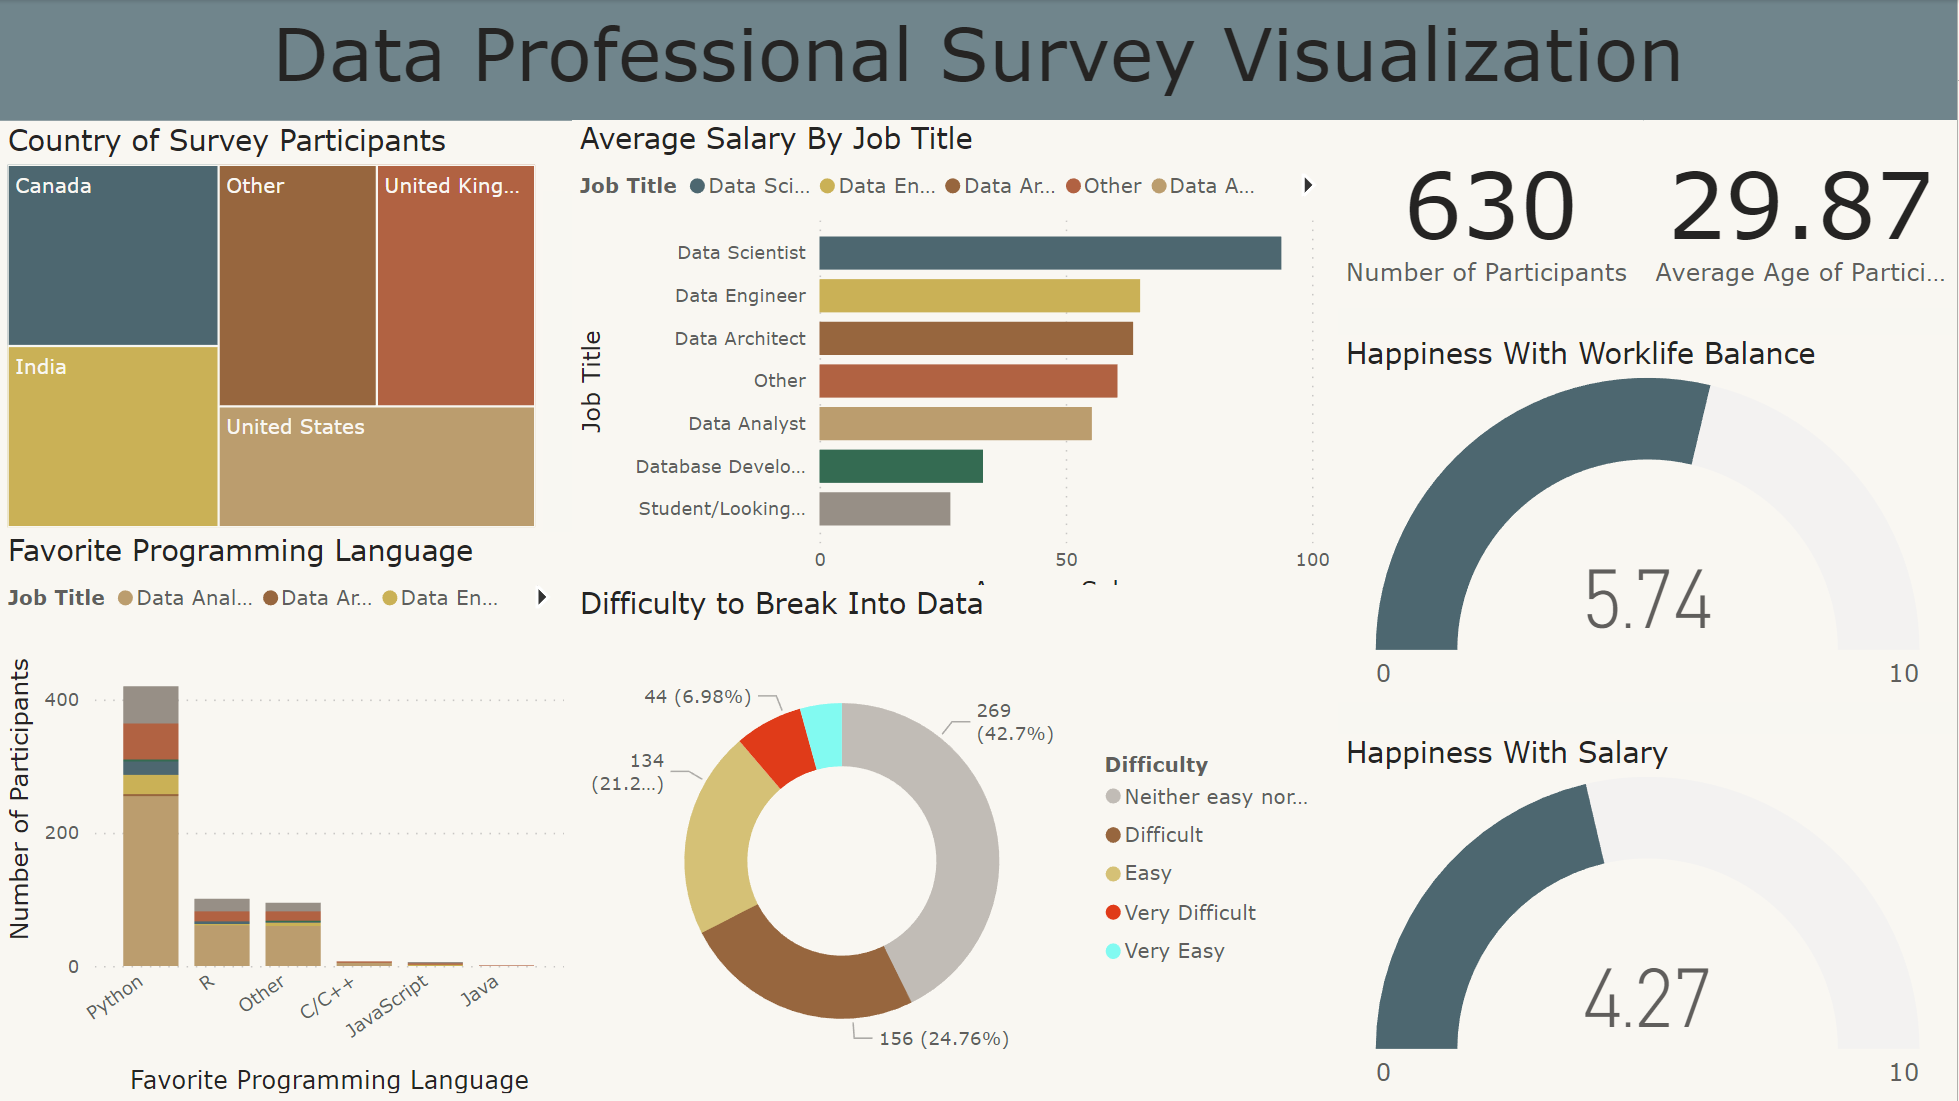

The page's visual inventory and layout, read from the dashboard file:
{"tool":"powerbi","page":{"name":"Page 1","canvas":[1280,720],"ordinal":0},"visuals":[{"type":"textbox","box":[0,0,1280,78.6],"z":0},{"type":"card","fields":{"Values":["Count(Data Professional Survey.Unique ID)"]},"box":[875.1,78.6,200.1,122.8],"z":1000},{"type":"card","fields":{"Values":["Avg(Data Professional Survey.Q10 - Current Age)"]},"box":[1075.3,78.6,204.7,122.8],"z":2000},{"type":"barChart","title":"Average Salary By Job Title","fields":{"Category":["Data Professional Survey.Q1 - Which Title Best Fits your Current Role?.1"],"Y":["Avg(Data Professional Survey.Average Salary)"],"Series":["Data Professional Survey.Q1 - Which Title Best Fits your Current Role?.1"]},"box":[373.8,78.6,501.3,321],"z":3000},{"type":"columnChart","title":"Favorite Programming Language","fields":{"Category":["Data Professional Survey.Q5 - Favorite Programming Language.1"],"Y":["CountNonNull(Data Professional Survey.Unique ID)"],"Series":["Data Professional Survey.Q1 - Which Title Best Fits your Current Role?.1"]},"box":[0,348.1,373.8,371.8],"z":3001},{"type":"treemap","title":"Country of Survey Participants","fields":{"Group":["Data Professional Survey.Q11 - Which Country do you live in?.1"],"Values":["Count(Data Professional Survey.Q11 - Which Country do you live in?.1)"]},"box":[0,79.9,354.7,270.1],"z":3002},{"type":"gauge","title":"Happiness With Salary","fields":{"Y":["Avg(Data Professional Survey.Q6 - How Happy are you in your Current Position with the following? (Salary))"],"MinValue":["Min(Data Professional Survey.Q6 - How Happy are you in your Current Position with the following? (Salary))"],"MaxValue":["Max(Data Professional Survey.Q6 - How Happy are you in your Current Position with the following? (Salary))"]},"box":[875.1,480.2,404.9,239.8],"z":3003},{"type":"gauge","title":"Happiness With Worklife Balance","fields":{"Y":["Avg(Data Professional Survey.Q6 - How Happy are you in your Current Position with the following? (Work/Life Balance))"],"MinValue":["Min(Data Professional Survey.Q6 - How Happy are you in your Current Position with the following? (Work/Life Balance))"],"MaxValue":["Max(Data Professional Survey.Q6 - How Happy are you in your Current Position with the following? (Work/Life Balance))1"]},"box":[875.1,219.3,404.9,239.8],"z":3004},{"type":"donutChart","title":"Difficulty to Break Into Data","fields":{"Category":["Data Professional Survey.Q7 - How difficult was it for you to break into Data?"],"Y":["CountNonNull(Data Professional Survey.Q7 - How difficult was it for you to break into Data?)"]},"box":[373.8,382.4,501.3,337.5],"z":3005}]}

Visuals, with their boxes in screenshot pixels (x1, y1, x2, y2), scaled from the page's 1280x720 canvas onto the 1959x1101 screenshot:
textbox: <box>0,0,1958,120</box>
card - Count(Data Professional Survey.Unique ID): <box>1339,120,1646,308</box>
card - Avg(Data Professional Survey.Q10 - Current Age): <box>1646,120,1958,308</box>
"Average Salary By Job Title" barChart: <box>572,120,1339,611</box>
"Favorite Programming Language" columnChart: <box>0,532,572,1100</box>
"Country of Survey Participants" treemap: <box>0,122,543,535</box>
"Happiness With Salary" gauge: <box>1339,734,1958,1100</box>
"Happiness With Worklife Balance" gauge: <box>1339,335,1958,702</box>
"Difficulty to Break Into Data" donutChart: <box>572,585,1339,1100</box>
